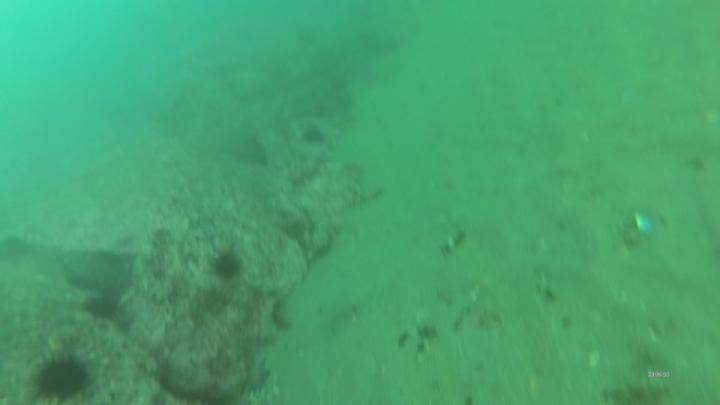echinus: (31, 356, 88, 404), (214, 255, 242, 281)
